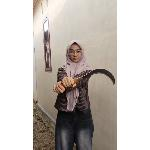Celurit: (53, 64, 117, 90)
